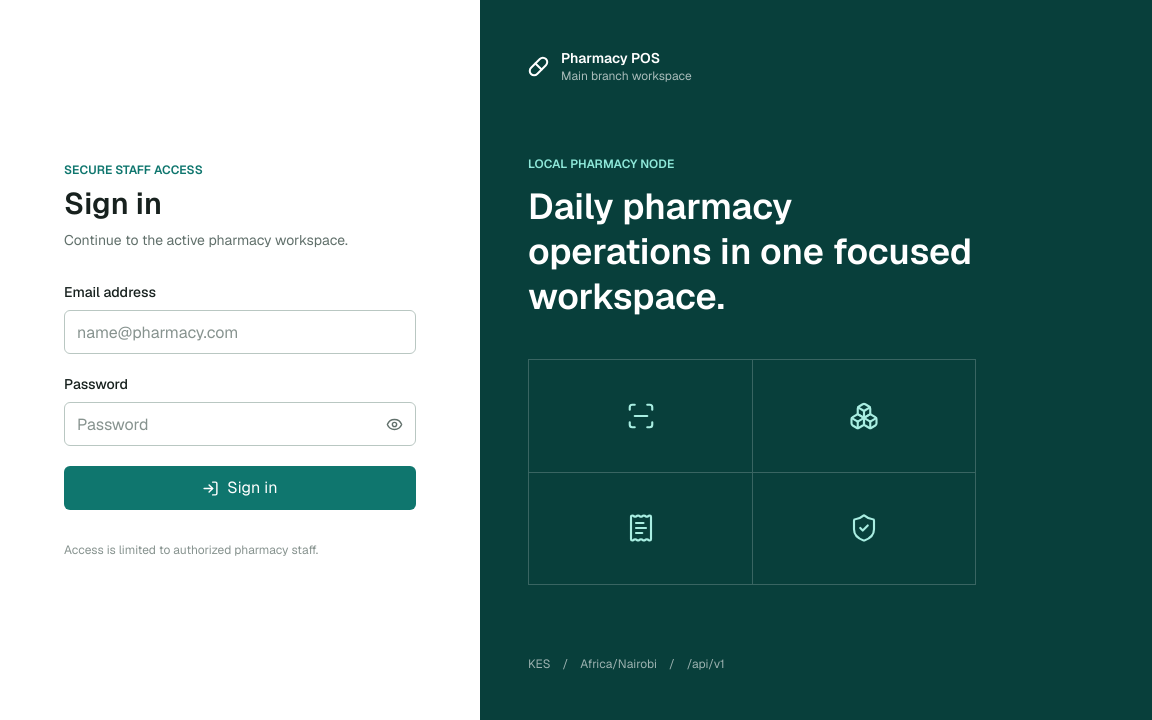
LoginScreen › shows accessible validation messages for an empty submission
Click the button "Sign in".
click(240, 488)  # box [64,466,416,510]
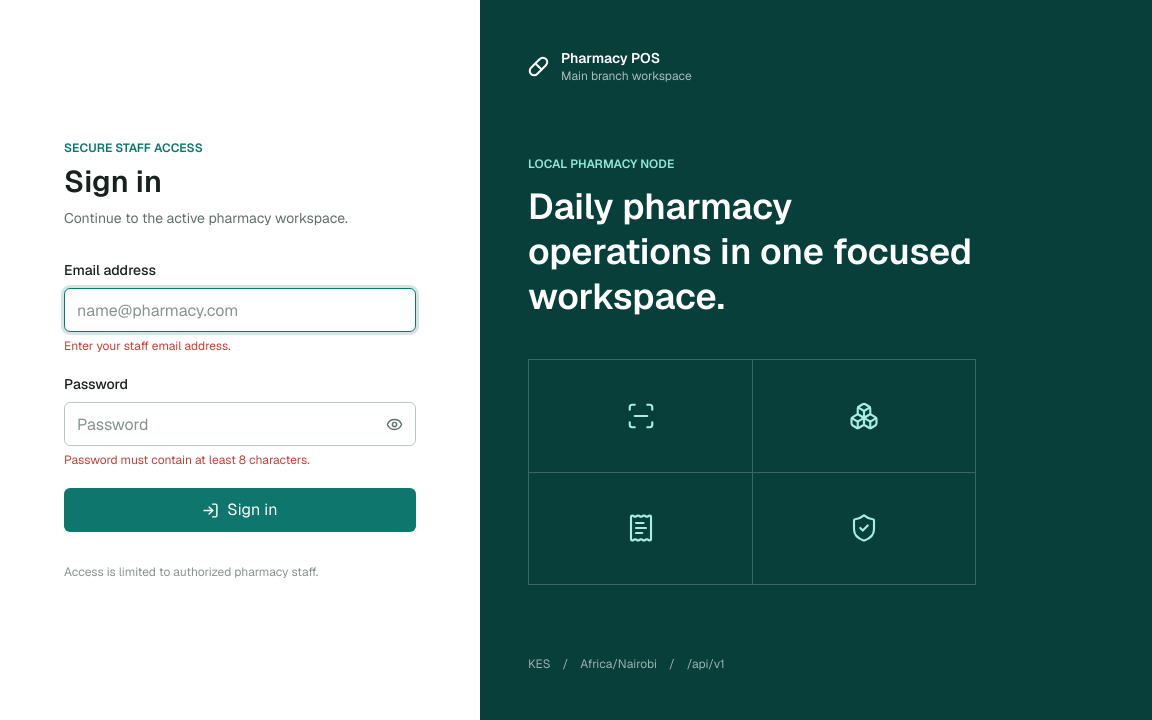
Now the text "Enter your staff email address." is shown, box [64,338,231,354]
Now the text "Password must contain at least 8 characters." is shown, box [64,452,310,468]
